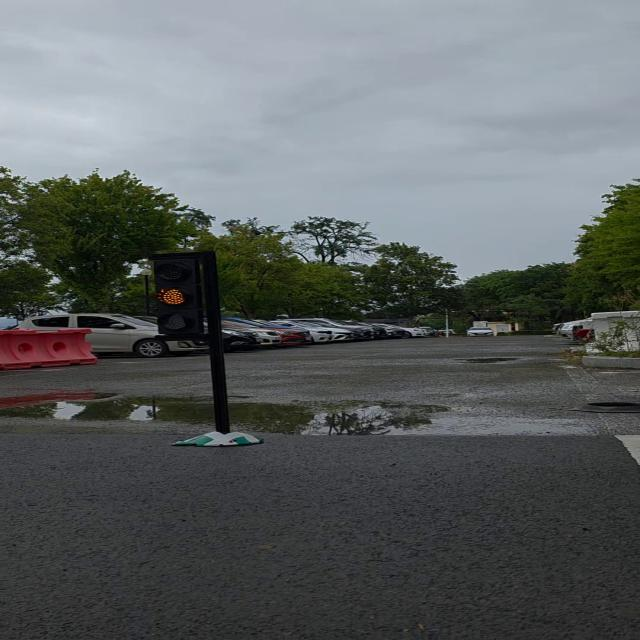yellow: (145, 248, 233, 342)
